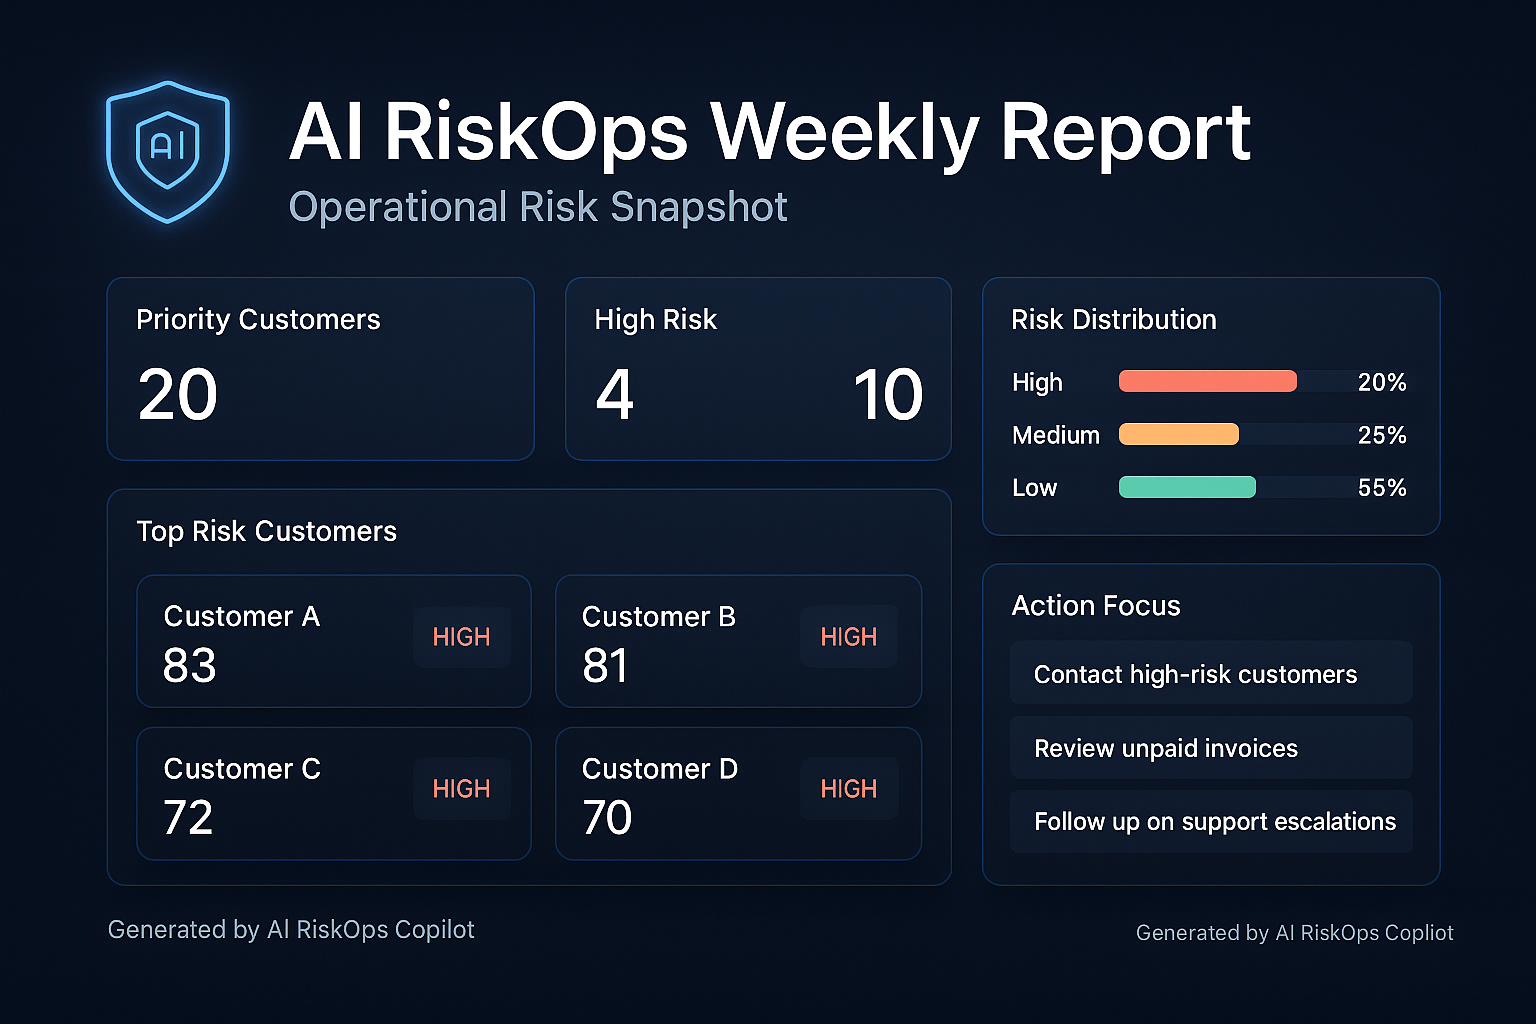

What the dashboard file says about the page in this screenshot:
{"tool":"powerbi","page":{"name":"Executive Overview","canvas":[1280,720],"ordinal":0},"visuals":[{"type":"textbox","box":[10,0,595,60],"z":0},{"type":"cardVisual","fields":{"Data":["_Measures.Total Customers","_Measures.High Risk Customers","_Measures.Open Actions","_Measures.Overdue Actions","_Measures.RiskOps Pressure Score"]},"box":[0,102.5,1280,111.2],"z":1000},{"type":"donutChart","title":"Risk Distribution","fields":{"Category":["Risk_Customers.risk_level"],"Y":["_Measures.Total Customers"]},"box":[0,213.8,621.2,266.2],"z":2000},{"type":"clusteredColumnChart","title":"Actions by Priority","fields":{"Category":["Action_Board.priority"],"Y":["_Measures.Total Actions"]},"box":[621.2,213.8,658.8,266.2],"z":3000},{"type":"tableEx","title":"Top Risk Customers","fields":{"Values":["Risk_Customers.Customer Alias","Risk_Customers.risk_level","Risk_Customers.risk_score","Risk_Customers.confidence","Risk_Customers.top_reasons","Risk_Customers.next_best_action","Risk_Customers.owner","Risk_Customers.Due Date Display"]},"box":[0,479.6,1280,240.6],"z":4000},{"type":"pageNavigator","box":[0,60,1280,52.5],"z":5000}]}

Visuals, with their boxes on the page's 1280x720 design canvas (x1, y1, x2, y2). These are canvas units, not pixel positions in the 1536x1024 screenshot, which may show the page scaled, cropped or inside an application window:
textbox: detection(10, 0, 605, 60)
cardVisual - _Measures.Total Customers x _Measures.High Risk Customers: detection(0, 102, 1280, 214)
"Risk Distribution" donutChart: detection(0, 214, 621, 480)
"Actions by Priority" clusteredColumnChart: detection(621, 214, 1280, 480)
"Top Risk Customers" tableEx: detection(0, 480, 1280, 720)
pageNavigator: detection(0, 60, 1280, 112)
